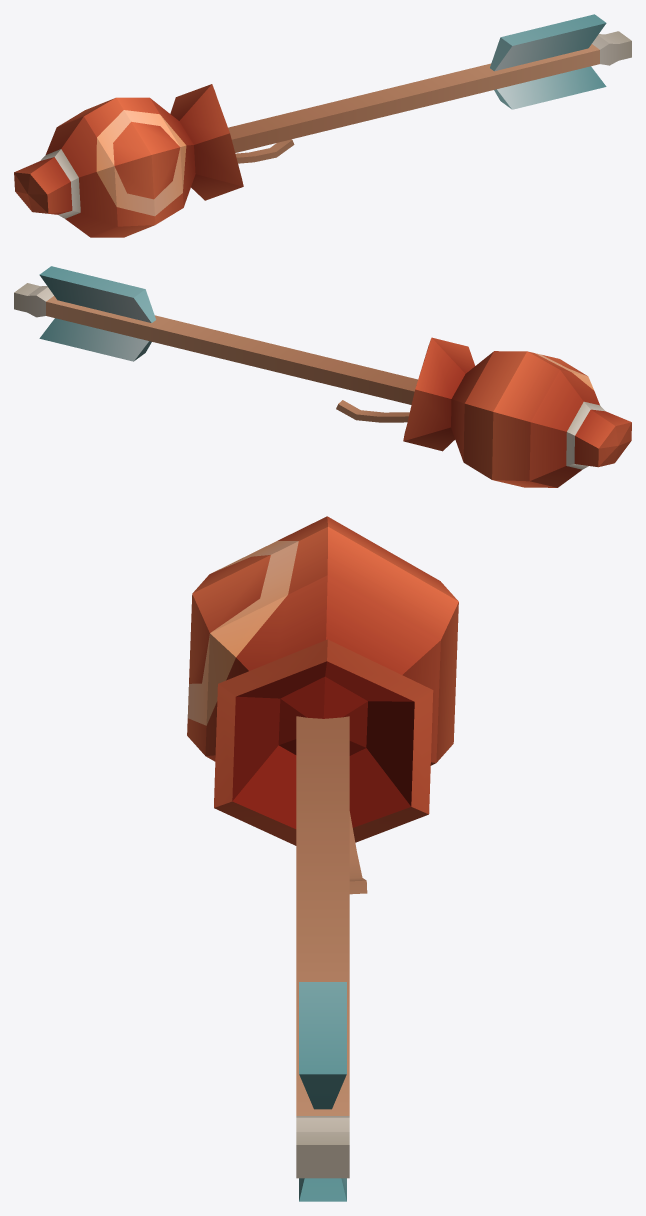
Rendered from bomb_arrow.fbx.
3 views of the same model, one above another, from view 1: azimuth 30°, elevation 25°; view 2: azimuth 150°, elevation 25°; view 3: azimuth 270°, elevation 25° (orthographic). The views are drawn at different scales.
Visible parts, largest first — view 1: bomb_arrow; view 2: bomb_arrow; view 3: bomb_arrow.
Part boxes in pixels (box(x1,y1,x2,y2)): bomb_arrow: box(14, 14, 631, 237); bomb_arrow: box(14, 266, 631, 487); bomb_arrow: box(187, 516, 458, 1201).
Size of the model in its own units: 25.92 by 5.78 by 5.1.
